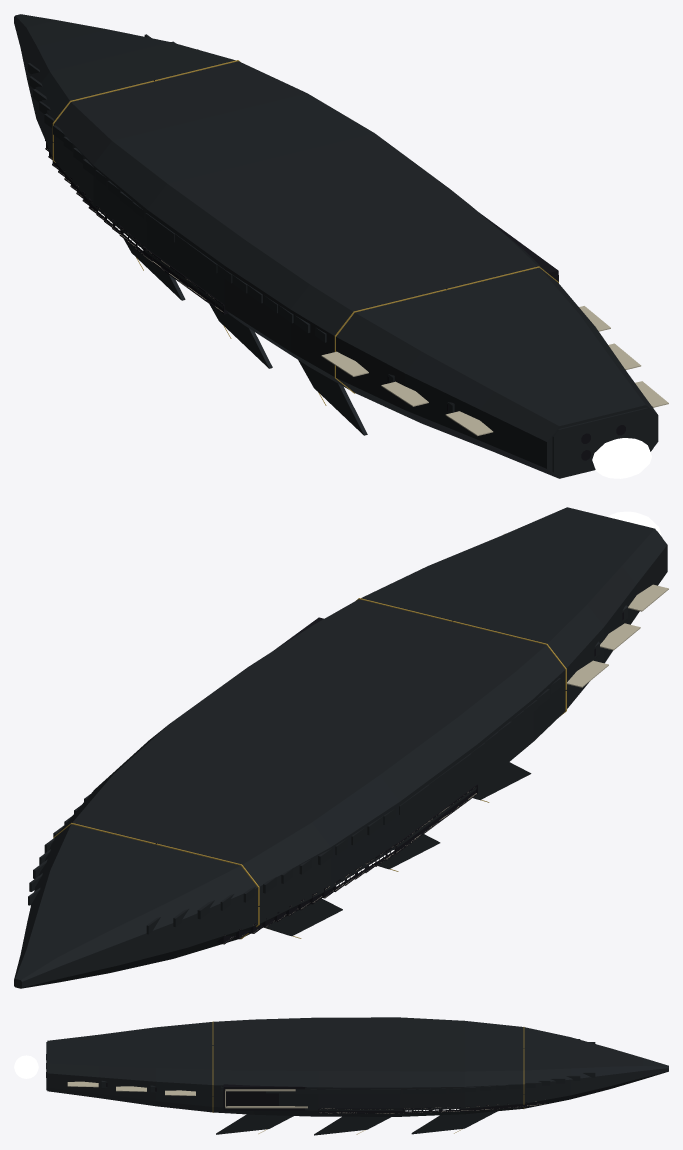
3 renders of one model, top to bottom at view 1: azimuth 30°, elevation 25°; view 2: azimuth 150°, elevation 25°; view 3: azimuth 270°, elevation 25°, orthographic. The views are drawn at different scales.
Visible parts, largest first — view 1: RIMWARD_HULL, RIMWARD_ENGINE_GLOW; view 2: RIMWARD_HULL; view 3: RIMWARD_HULL, RIMWARD_ENGINE_GLOW.
Part boxes in pixels (x1,y1,x2,y2): RIMWARD_HULL: (14, 14, 668, 478); RIMWARD_ENGINE_GLOW: (592, 438, 651, 478); RIMWARD_HULL: (14, 507, 668, 988); RIMWARD_HULL: (46, 1017, 668, 1135); RIMWARD_ENGINE_GLOW: (14, 1055, 38, 1078).
Size of the model in its own units: 18.95 by 9.48 by 80.58.
